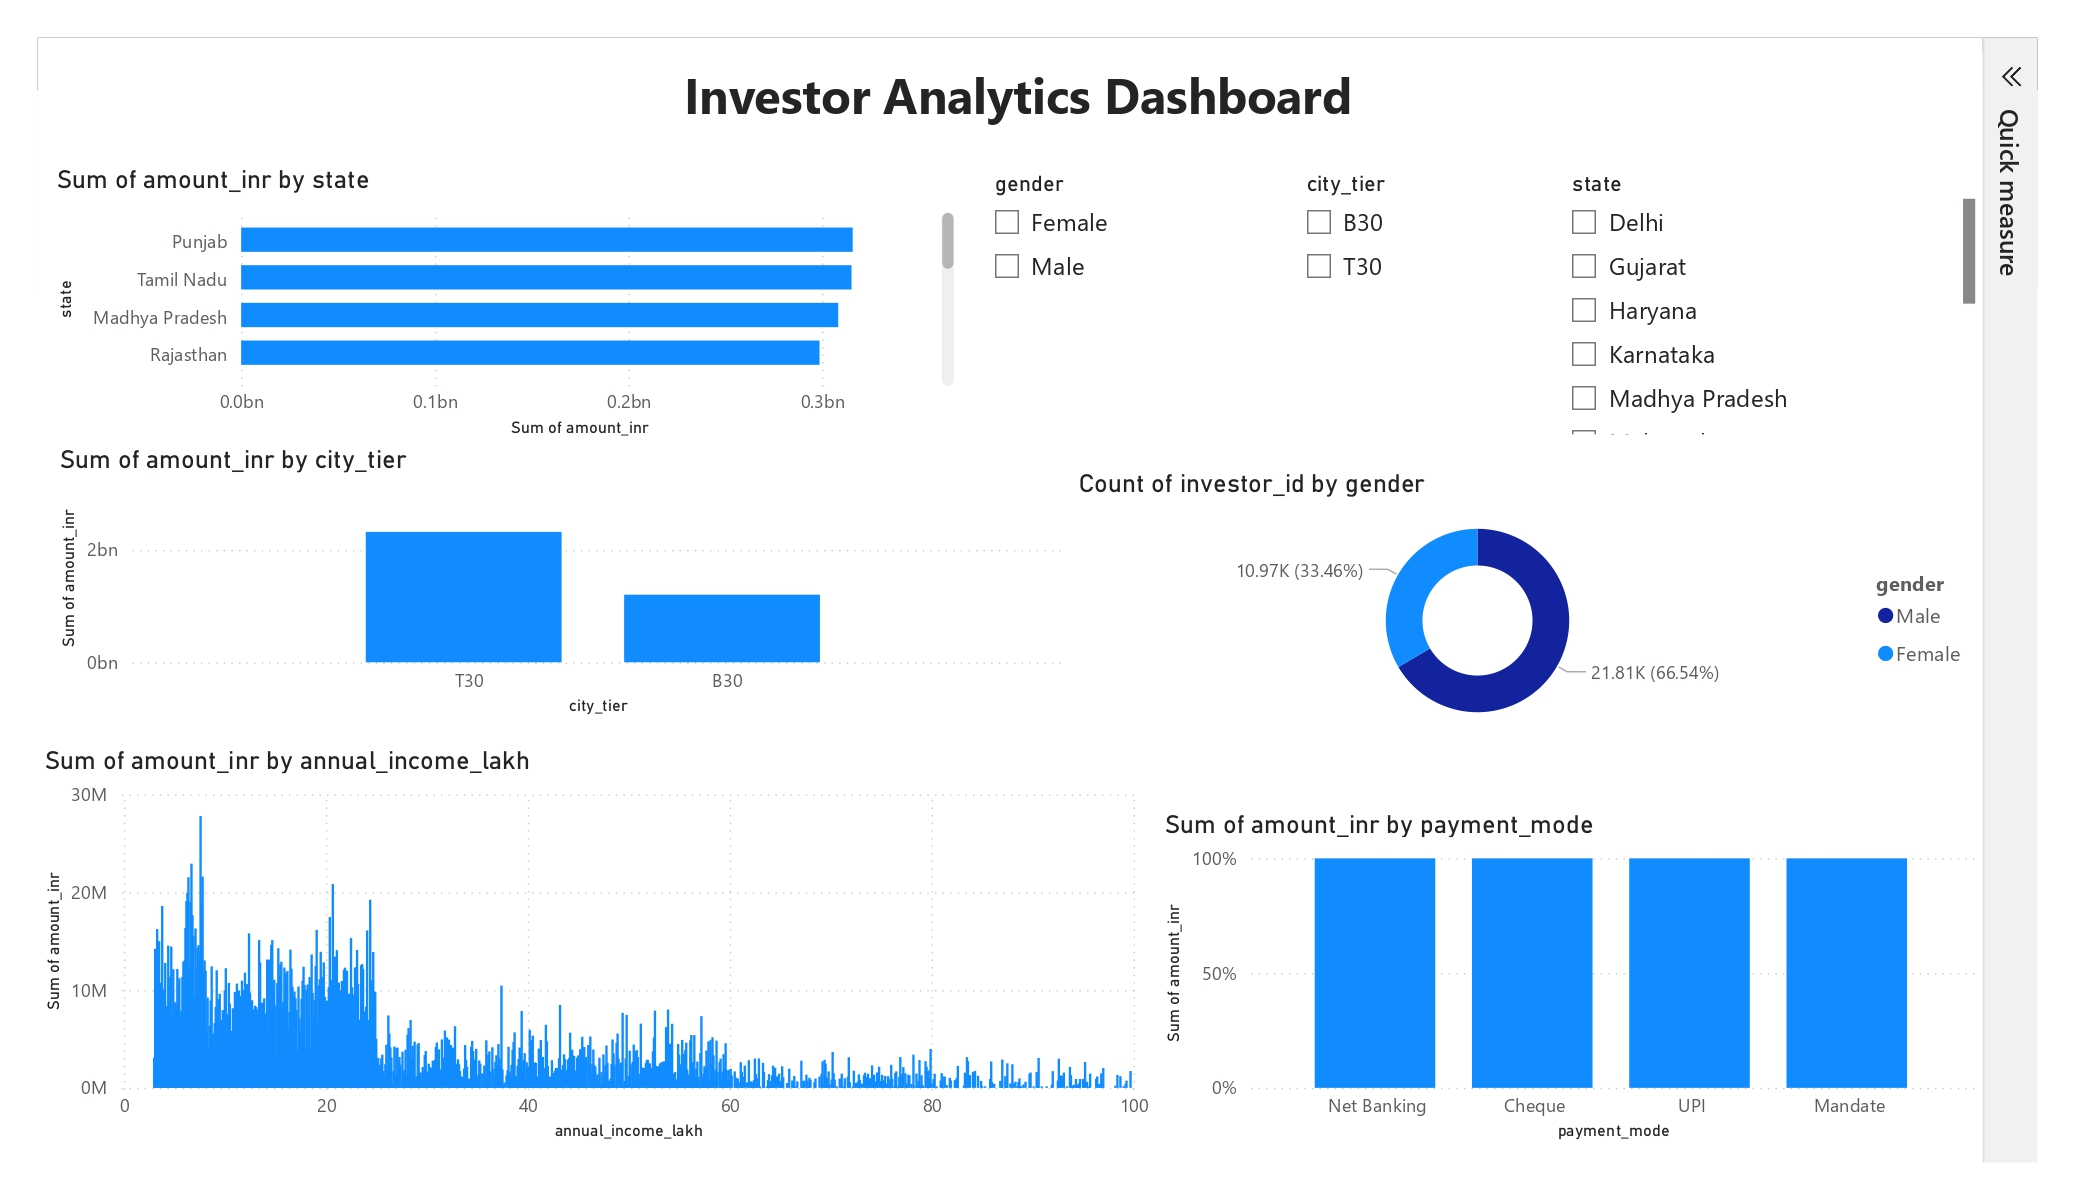

The page's visual inventory and layout, read from the dashboard file:
{"tool":"powerbi","page":{"name":"Investor Analytics Dashboard","canvas":[1280,720],"ordinal":2},"visuals":[{"type":"textbox","box":[10,0,1270,73.3],"z":0},{"type":"clusteredBarChart","fields":{"Category":["transactions_clean.state"],"Y":["Sum(transactions_clean.amount_inr)"]},"box":[8.3,73.3,600,183.3],"z":1},{"type":"donutChart","fields":{"Category":["transactions_clean.gender"],"Y":["CountNonNull(transactions_clean.investor_id)"]},"box":[680,273.3,600,181.7],"z":2},{"type":"columnChart","fields":{"Category":["transactions_clean.city_tier"],"Y":["Sum(transactions_clean.amount_inr)"]},"box":[10,256.7,670,183.3],"z":3},{"type":"hundredPercentStackedColumnChart","fields":{"Category":["transactions_clean.payment_mode"],"Y":["Sum(transactions_clean.amount_inr)"]},"box":[736.7,496.7,543.3,223.3],"z":4},{"type":"columnChart","fields":{"Category":["transactions_clean.annual_income_lakh"],"Y":["Sum(transactions_clean.amount_inr)"]},"box":[0,455,736.7,265],"z":5},{"type":"slicer","fields":{"Values":["transactions_clean.gender"]},"box":[616.7,73.3,205,183.3],"z":6},{"type":"slicer","fields":{"Values":["transactions_clean.state"]},"box":[996.7,73.3,283.3,183.3],"z":7},{"type":"slicer","fields":{"Values":["transactions_clean.city_tier"]},"box":[821.7,73.3,186.7,166.7],"z":8}]}

Visuals, with their boxes on the page's 1280x720 design canvas (x1, y1, x2, y2). These are canvas units, not pixel positions in the 2075x1200 screenshot, which may show the page scaled, cropped or inside an application window:
textbox: (10, 0, 1280, 73)
clusteredBarChart - transactions_clean.state x Sum(transactions_clean.amount_inr): (8, 73, 608, 257)
donutChart - transactions_clean.gender x CountNonNull(transactions_clean.investor_id): (680, 273, 1280, 455)
columnChart - transactions_clean.city_tier x Sum(transactions_clean.amount_inr): (10, 257, 680, 440)
hundredPercentStackedColumnChart - transactions_clean.payment_mode x Sum(transactions_clean.amount_inr): (737, 497, 1280, 720)
columnChart - transactions_clean.annual_income_lakh x Sum(transactions_clean.amount_inr): (0, 455, 737, 720)
slicer - transactions_clean.gender: (617, 73, 822, 257)
slicer - transactions_clean.state: (997, 73, 1280, 257)
slicer - transactions_clean.city_tier: (822, 73, 1008, 240)
